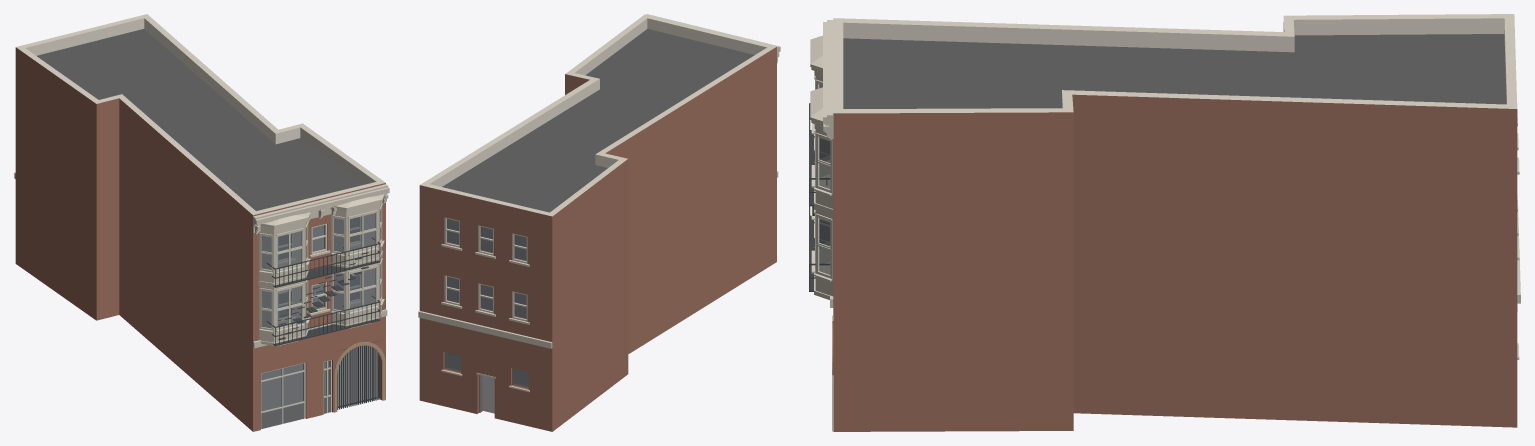
File: exterior.glb
3 views of the same model, side by side, from view 1: azimuth 30°, elevation 25°; view 2: azimuth 150°, elevation 25°; view 3: azimuth 270°, elevation 25° (orthographic). The views are drawn at different scales.
Visible parts, largest first — view 1: shell, roof, bay-glazing-hyb, shadow-proxy, bay-windows-hyb, storefront, fire-escape, glazing, trim, frames, hyC-arches-3; view 2: shell, roof, shadow-proxy, glazing, trim, frames; view 3: shell, roof, bay-windows-hyb, bay-glazing-hyb, trim, fire-escape.
Part boxes in pixels (left/top/right/bottom): shell: left=15, top=14, right=385, bottom=431; roof: left=37, top=29, right=365, bottom=210; bay-glazing-hyb: left=259, top=203, right=384, bottom=332; shadow-proxy: left=261, top=213, right=375, bottom=410; bay-windows-hyb: left=258, top=194, right=384, bottom=346; storefront: left=261, top=341, right=380, bottom=428; fire-escape: left=267, top=237, right=380, bottom=346; glazing: left=261, top=217, right=358, bottom=411; trim: left=14, top=172, right=389, bottom=348; frames: left=278, top=217, right=360, bottom=319; hyC-arches-3: left=334, top=340, right=385, bottom=412; shell: left=419, top=14, right=776, bottom=431; roof: left=442, top=29, right=754, bottom=212; shadow-proxy: left=447, top=219, right=528, bottom=413; glazing: left=444, top=219, right=528, bottom=388; trim: left=418, top=14, right=780, bottom=392; frames: left=444, top=217, right=527, bottom=321; shell: left=833, top=14, right=1517, bottom=431; roof: left=843, top=34, right=1506, bottom=108; bay-windows-hyb: left=810, top=35, right=833, bottom=299; bay-glazing-hyb: left=811, top=71, right=832, bottom=281; trim: left=823, top=20, right=1520, bottom=359; fire-escape: left=809, top=103, right=829, bottom=291.
Size of the model in its own units: 7.94 by 11.86 by 24.02.
